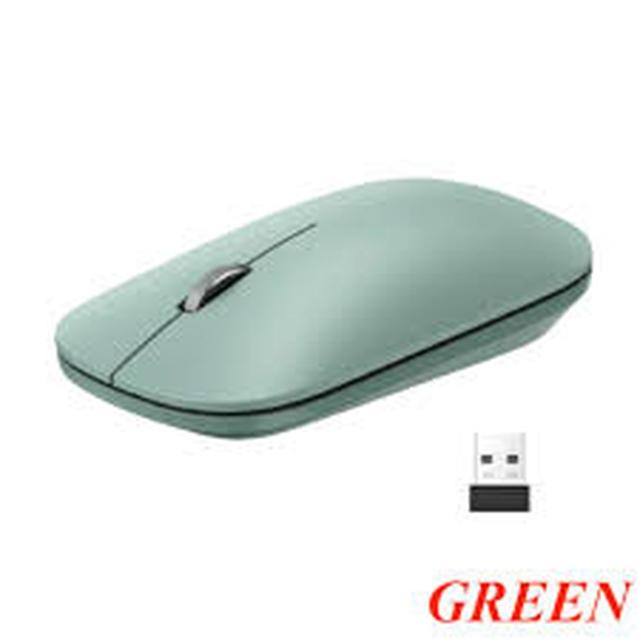mouse: (29, 157, 599, 440)
